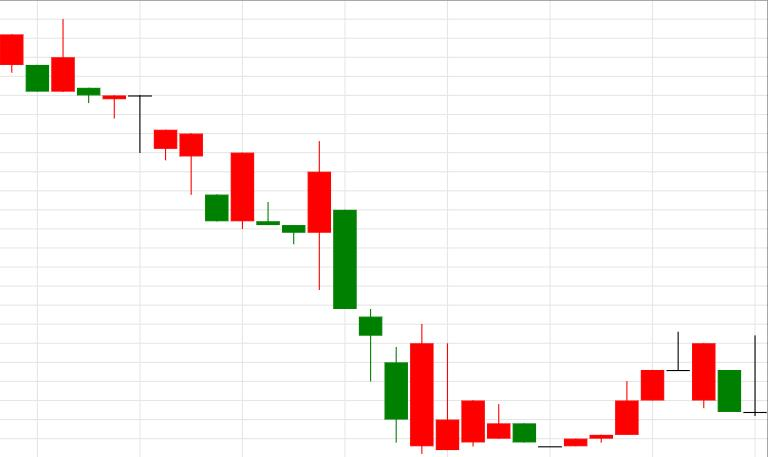bullish_engulfing_rise: (256, 141, 433, 456)
